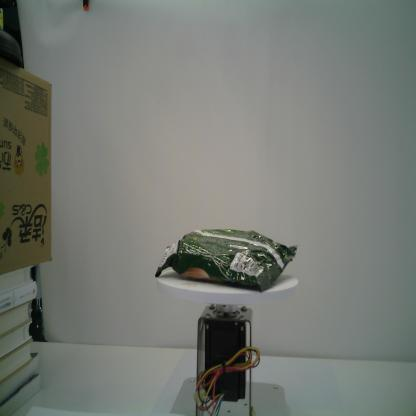Instant Noodles: (155, 228, 299, 292)
